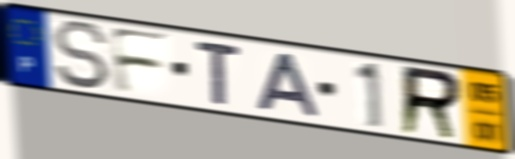1: (353, 61, 385, 131)
A: (253, 50, 323, 120)
F: (107, 24, 172, 97)
R: (398, 62, 465, 143)
S: (50, 18, 112, 92)
T: (192, 37, 243, 109)
